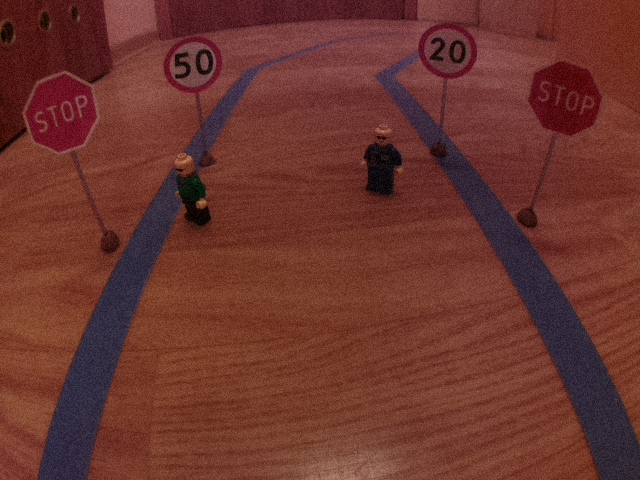LEGO_person: (357, 121, 408, 199), (169, 151, 218, 229)
ogr_20: (415, 20, 484, 83)
ogr_50: (161, 34, 227, 95)
stop: (19, 66, 103, 158)
